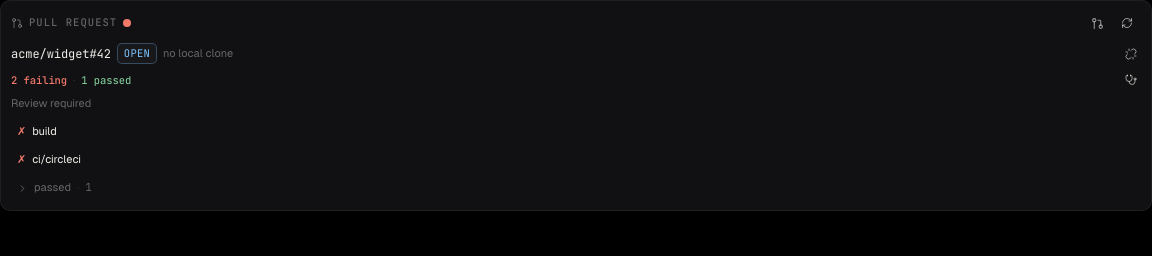
Test: PrCompanionSection › shows decision and checks alongside the subject line
Expected: the text "Review required" is shown, [11,97,91,109]
Expected: the link "build" is shown, [32,124,57,140]
Click the button with aria-label "Show 1 passed check". click: (52, 187)
box: [11,174,1141,202]
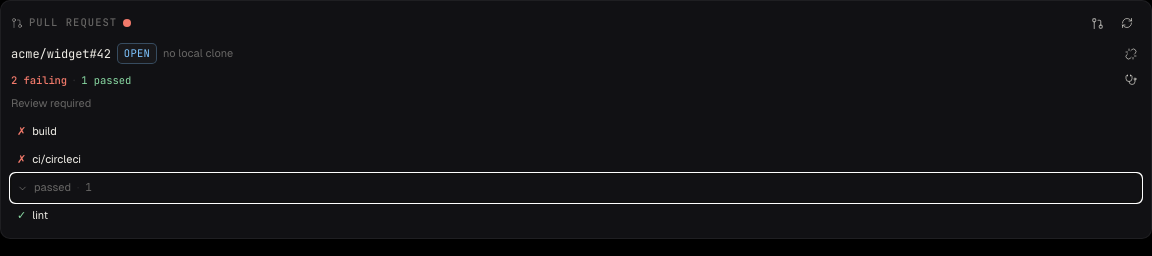
Now the text "lint" is shown, box [32,208,48,224]
